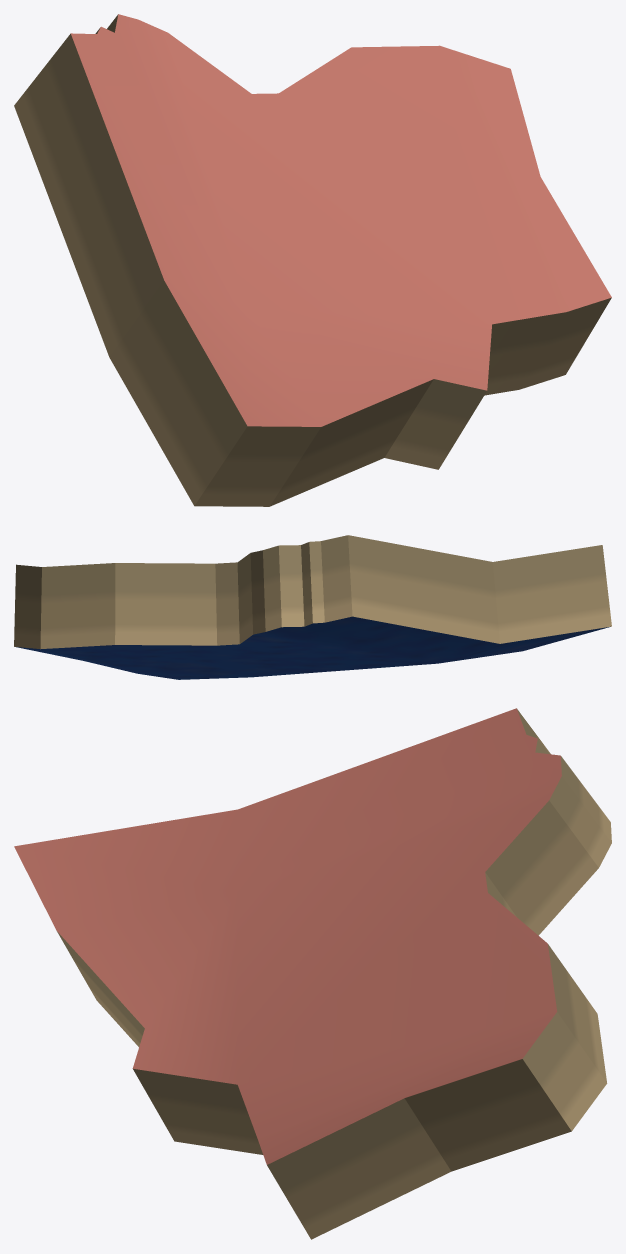
The model's file is 0665_Libya.glb.
3 renders of one model, top to bottom at view 1: azimuth 30°, elevation 25°; view 2: azimuth 150°, elevation 25°; view 3: azimuth 270°, elevation 25°, orthographic. The views are drawn at different scales.
Visible parts, largest first — view 1: part_0; view 2: part_0; view 3: part_0.
Part boxes in pixels (bbox=[...]): part_0: bbox=[14, 14, 611, 506]; part_0: bbox=[14, 535, 611, 679]; part_0: bbox=[14, 708, 611, 1239].
Bounding box in the file's own units: 1.16 × 0.7129 × 1.11.
Materials: 1 (1 with a texture image).
